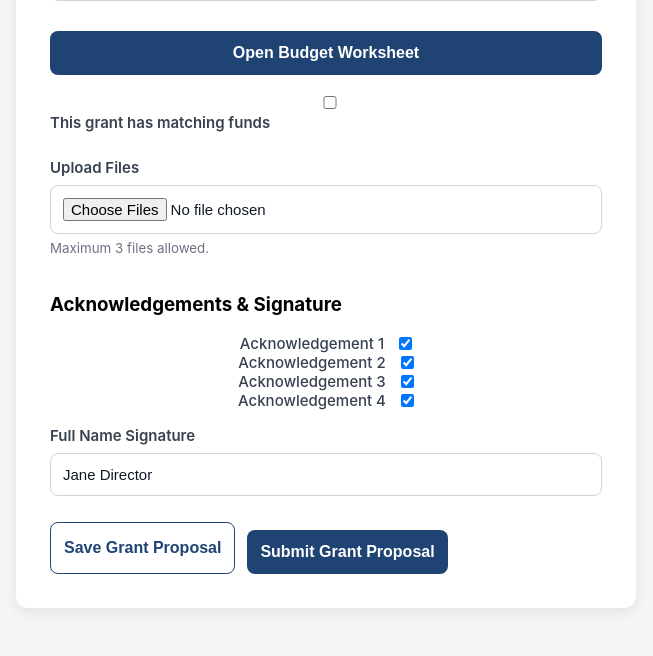
Test case: EditGrant › surfaces a server error message on submit failure
(page scrolled)
Click the button "Submit Grant Proposal" at x=348, y=552, box [247, 530, 448, 574]
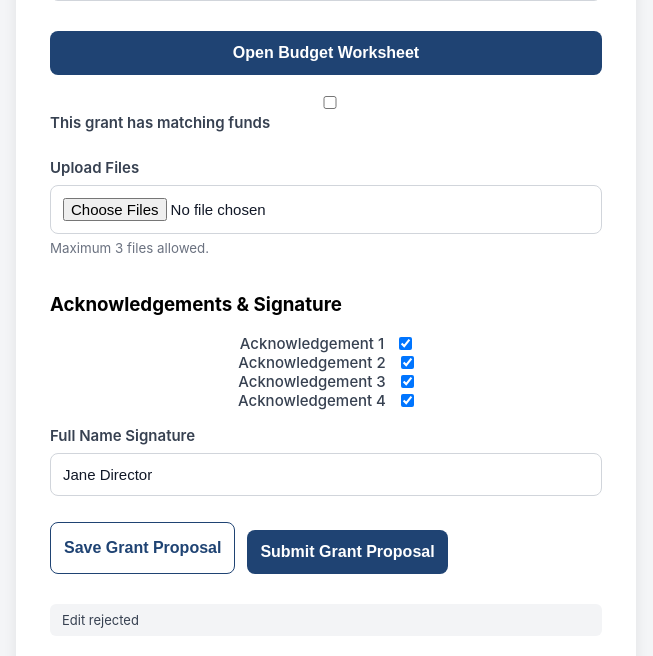
Now the text "Edit rejected" is shown, box [50, 604, 602, 636]
